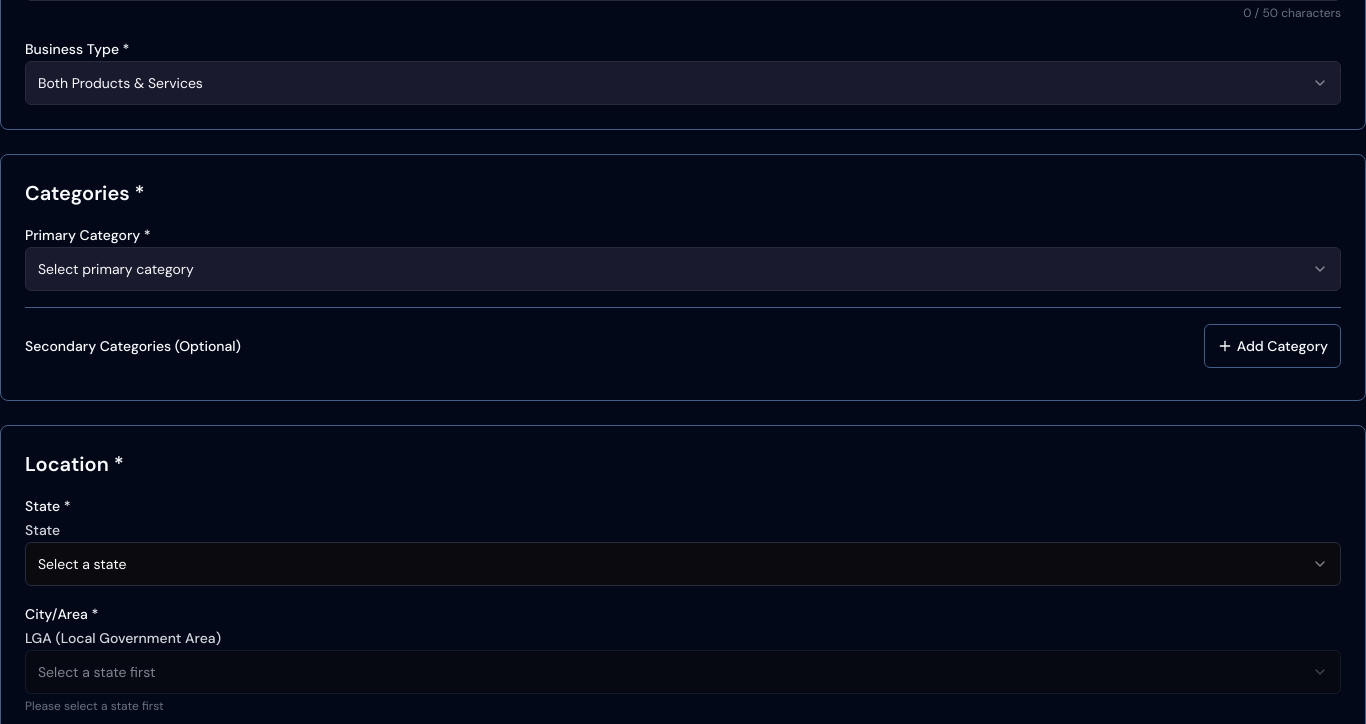
Scenario: BusinessProfileForm › allows adding secondary categories
(page scrolled)
Click the button "Add Category": (1272, 346) [1204,324,1341,368]
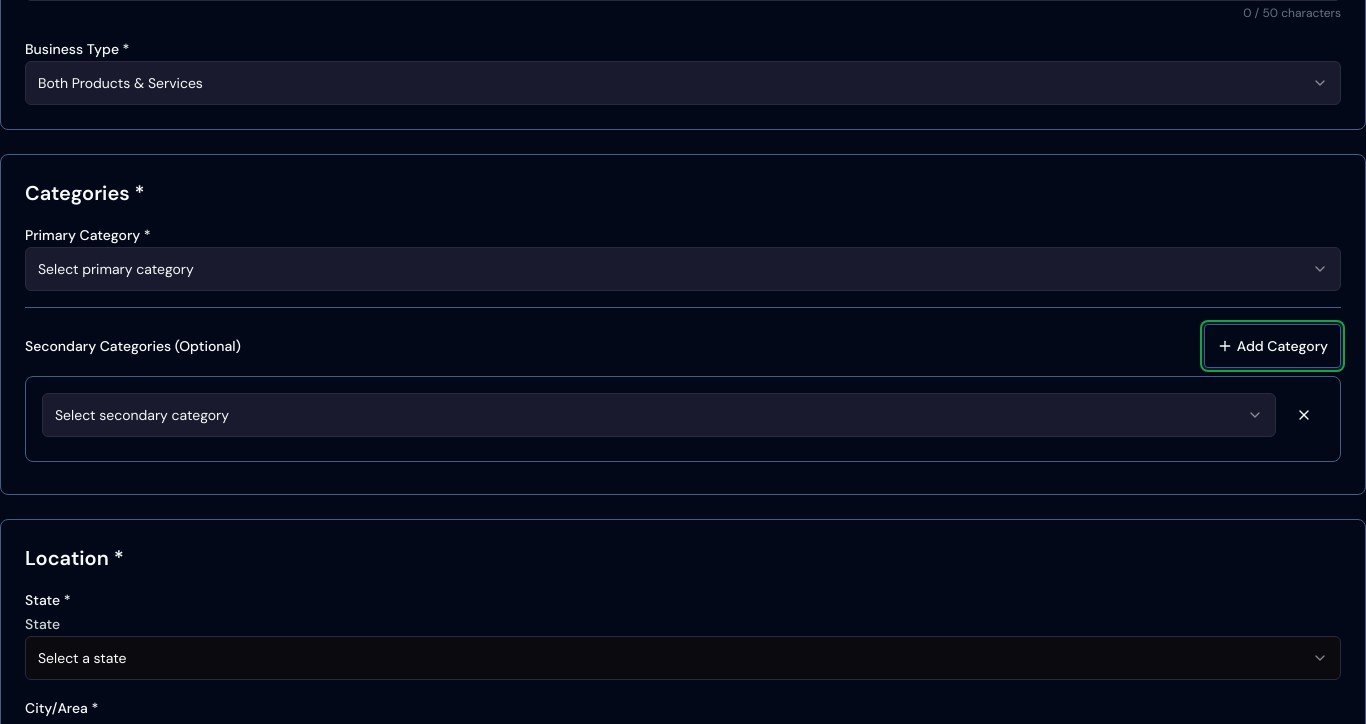
expect the text "Select secondary category" is shown: met, box [55,405,229,425]
